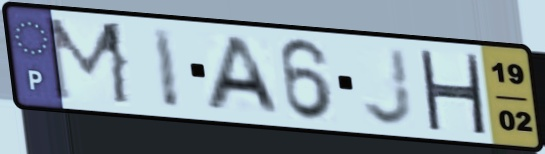6: (276, 35, 338, 124)
A: (201, 34, 286, 118)
H: (415, 47, 489, 138)
I: (148, 24, 184, 111)
J: (360, 45, 418, 129)
M: (43, 15, 136, 109)
